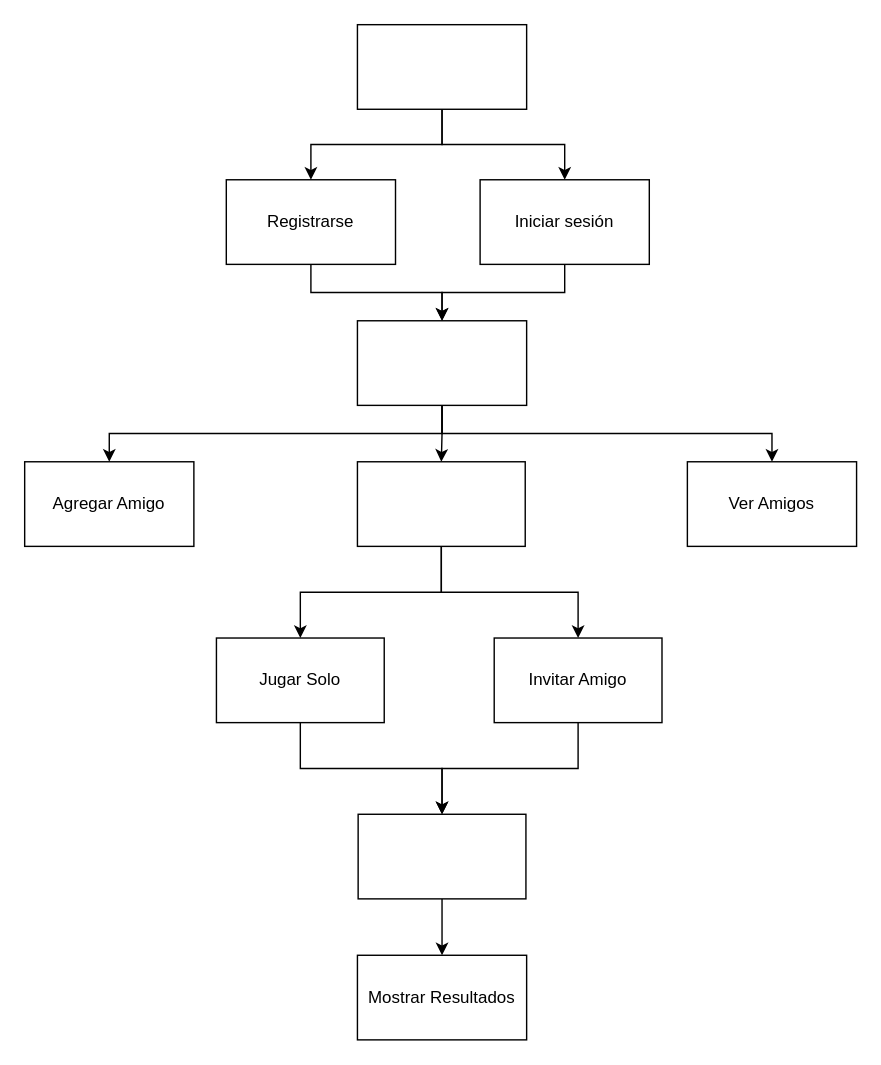
Some shapes in this 881 by 1065 pixel diagram are drawn without their labels. Here are the shapes that lost their labels. From the top down, the box of each, then its label:
(356, 23, 527, 109): Home Page
(356, 319, 527, 405): Game Page
(356, 460, 525, 546): Comenzar Juego Nuevo
(357, 813, 526, 899): Ciclo de Juego
